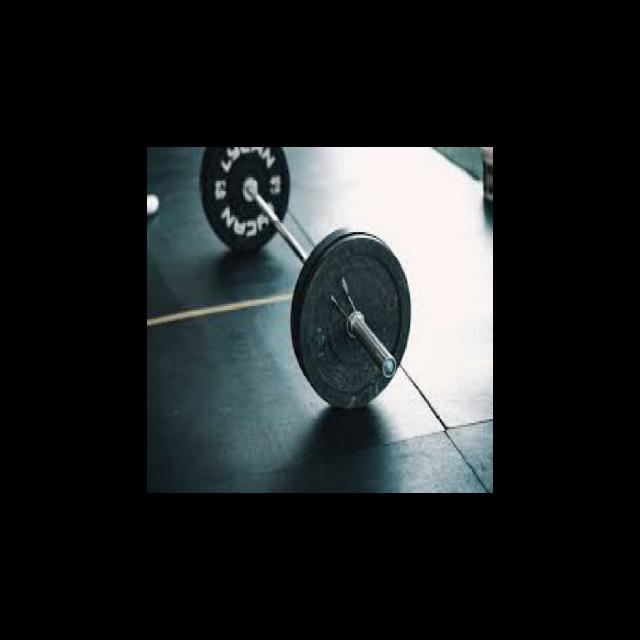barbell: (284, 220, 420, 417)
